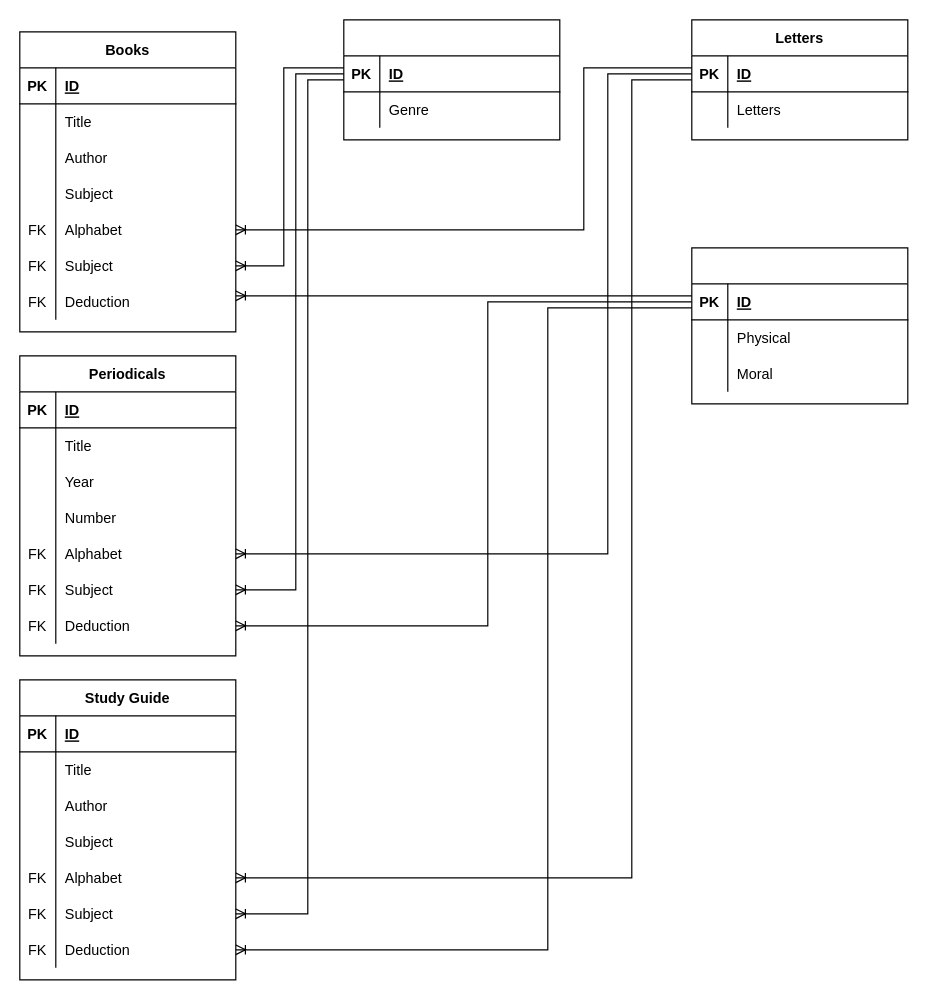
Image size: 928x1000. Some labels were removed from this diagram. Here are the shapes that lost their labels. From the top down, the box of each, then its label:
(343, 19, 560, 140): Subjects
(691, 247, 908, 404): Deductions
